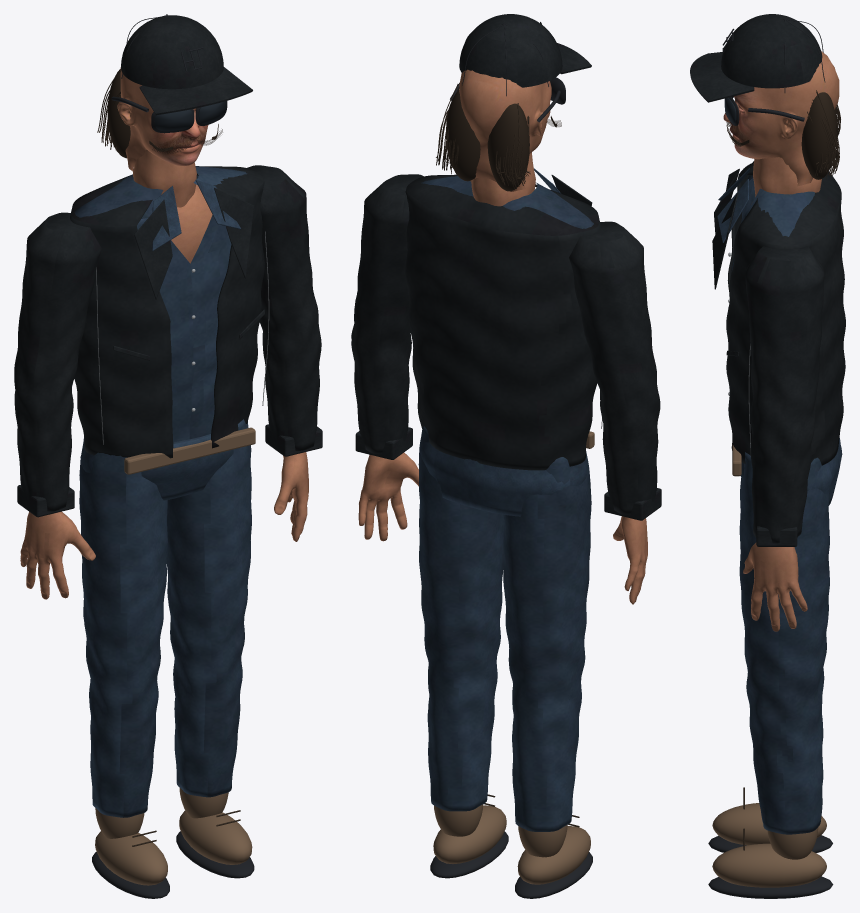
File: companion.gltf
3 views of the same model, side by side, from view 1: azimuth 30°, elevation 25°; view 2: azimuth 150°, elevation 25°; view 3: azimuth 270°, elevation 25° (orthographic).
Visible parts, largest first — view 1: FullBody; view 2: FullBody; view 3: FullBody.
Boxes of the visible parts, x1=… form: FullBody: x1=14, y1=14, x2=322, y2=898; FullBody: x1=351, y1=14, x2=661, y2=898; FullBody: x1=690, y1=14, x2=845, y2=898.
Bounding box in the file's own units: 0.6755 × 1.84 × 0.3042.
11 materials, 5 textured.
